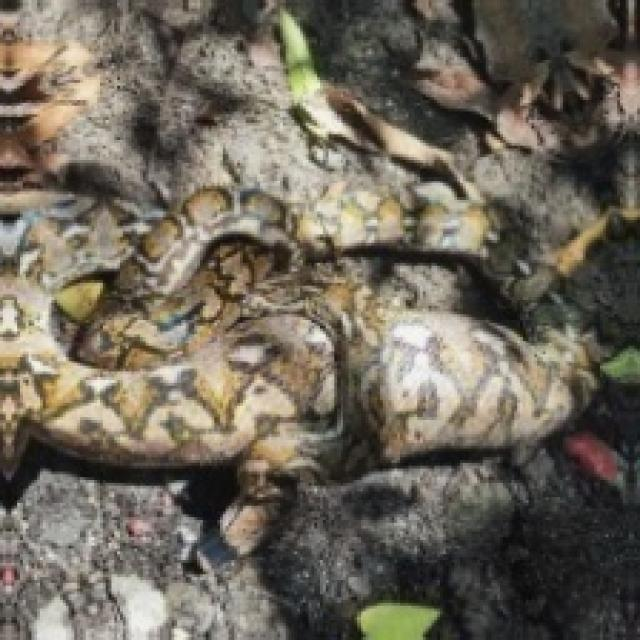reticulated python: (0, 92, 596, 554)
